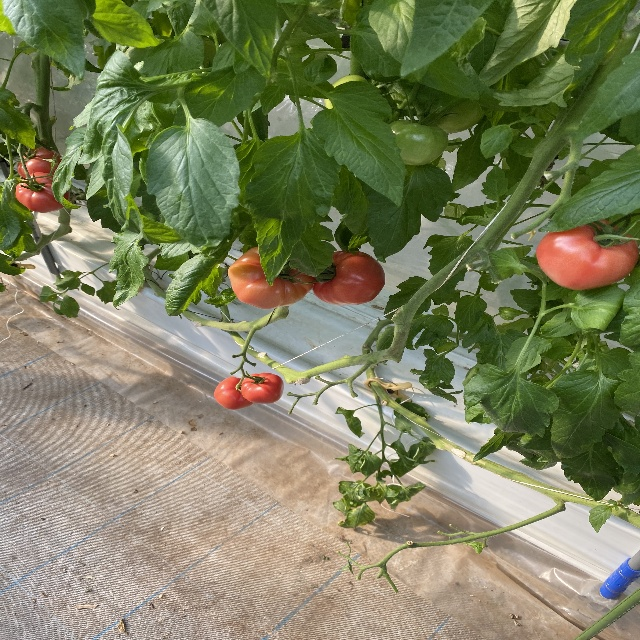b_fully_ripened: (536, 219, 638, 290), (313, 250, 386, 306), (16, 172, 70, 213), (17, 147, 62, 178), (241, 373, 285, 404), (214, 376, 254, 410)
b_green: (389, 120, 450, 165)
b_half_ripened: (228, 246, 313, 309)
